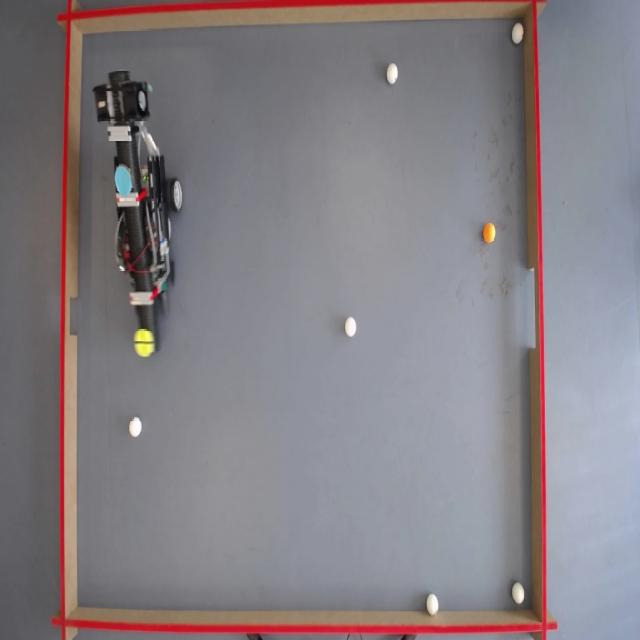orange: (483, 225, 497, 245)
robot: (99, 68, 186, 357)
robot-front: (134, 328, 154, 360)
robot-rear: (113, 164, 132, 197)
white: (513, 584, 527, 606), (512, 24, 526, 46), (130, 416, 144, 438), (426, 593, 440, 615), (345, 316, 358, 338), (386, 64, 399, 85)
